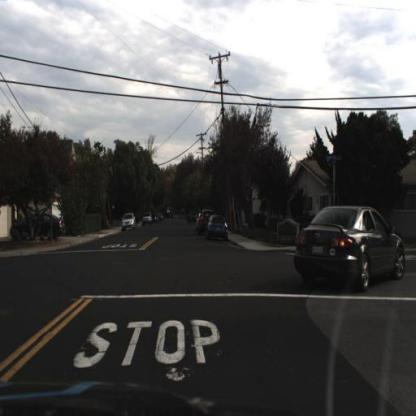car: (295, 200, 408, 290), (11, 214, 64, 241), (204, 211, 230, 244), (205, 215, 231, 239), (197, 210, 209, 239), (121, 213, 137, 233), (140, 207, 155, 227)
